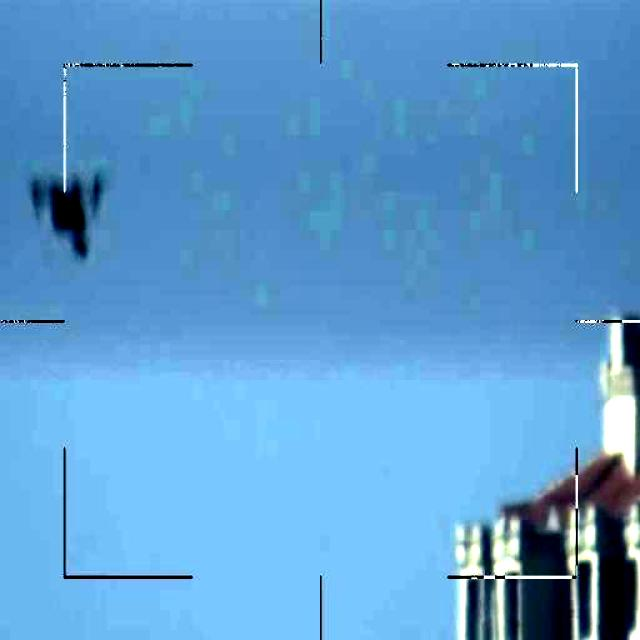bird: (30, 164, 108, 260)
